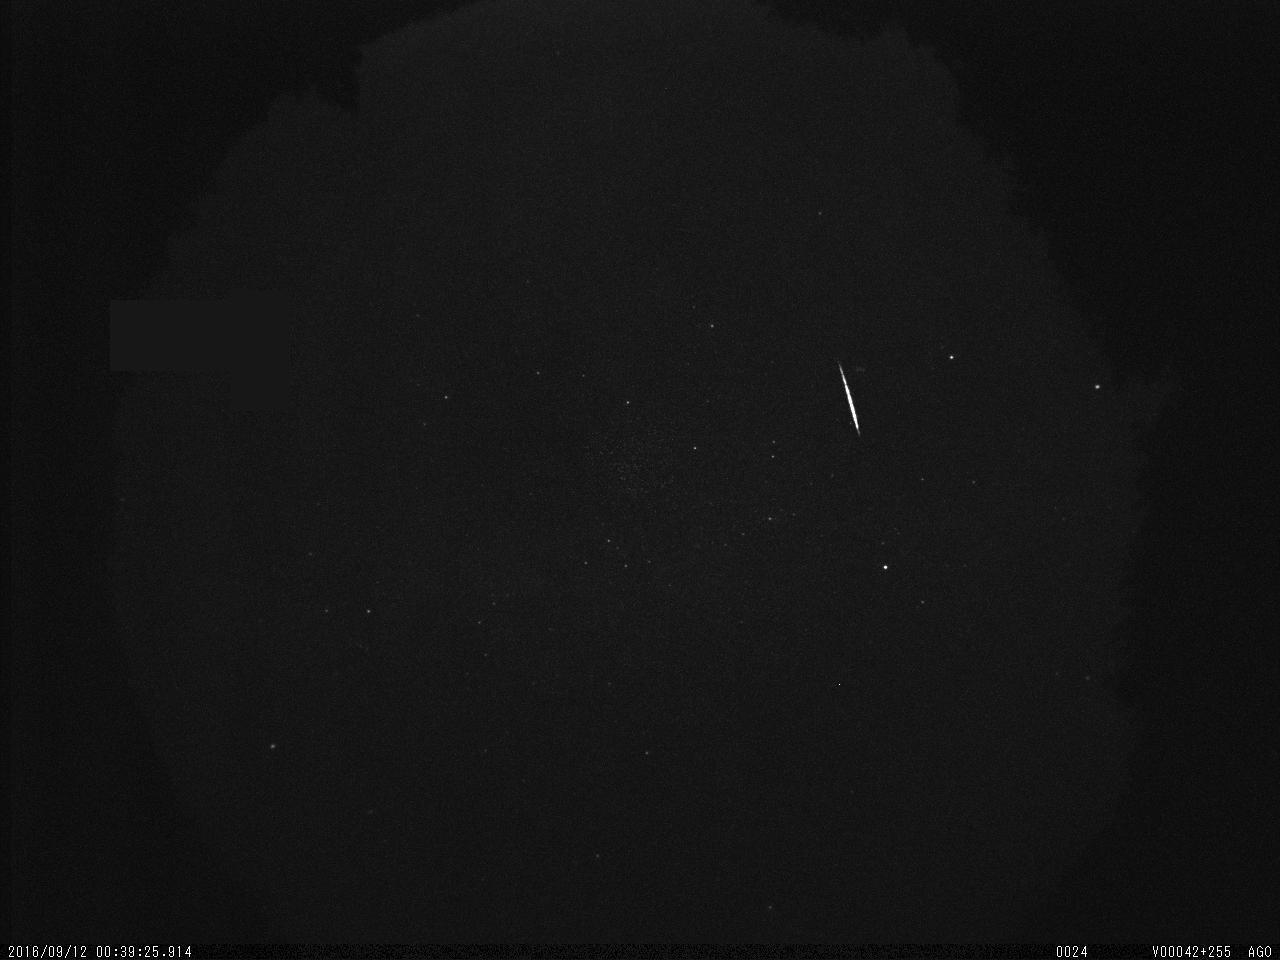meteor: (804, 337, 899, 469)
